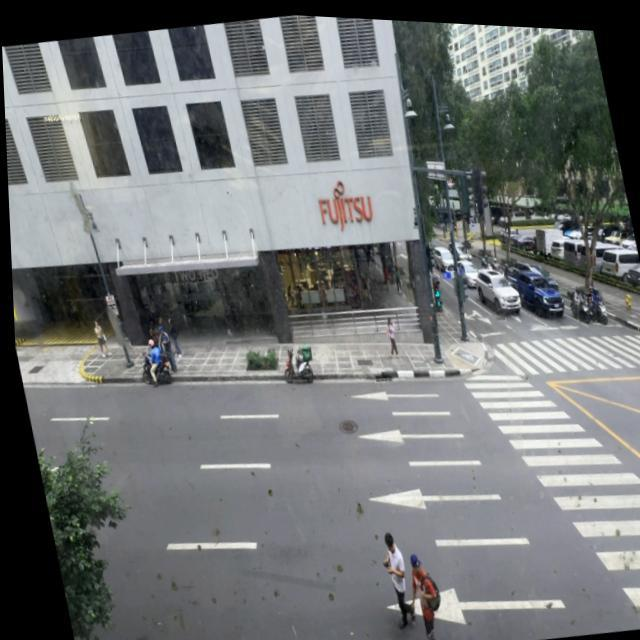jaywalking: (401, 551, 448, 640), (378, 531, 417, 628)
